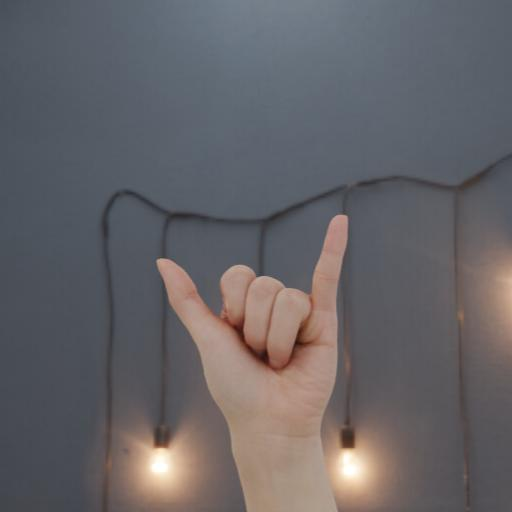Y: (131, 186, 374, 454)
